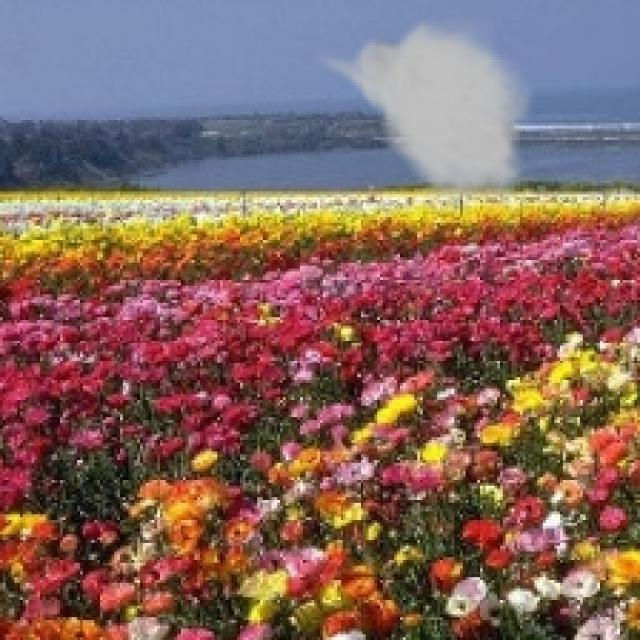smoke: (312, 14, 534, 214)
